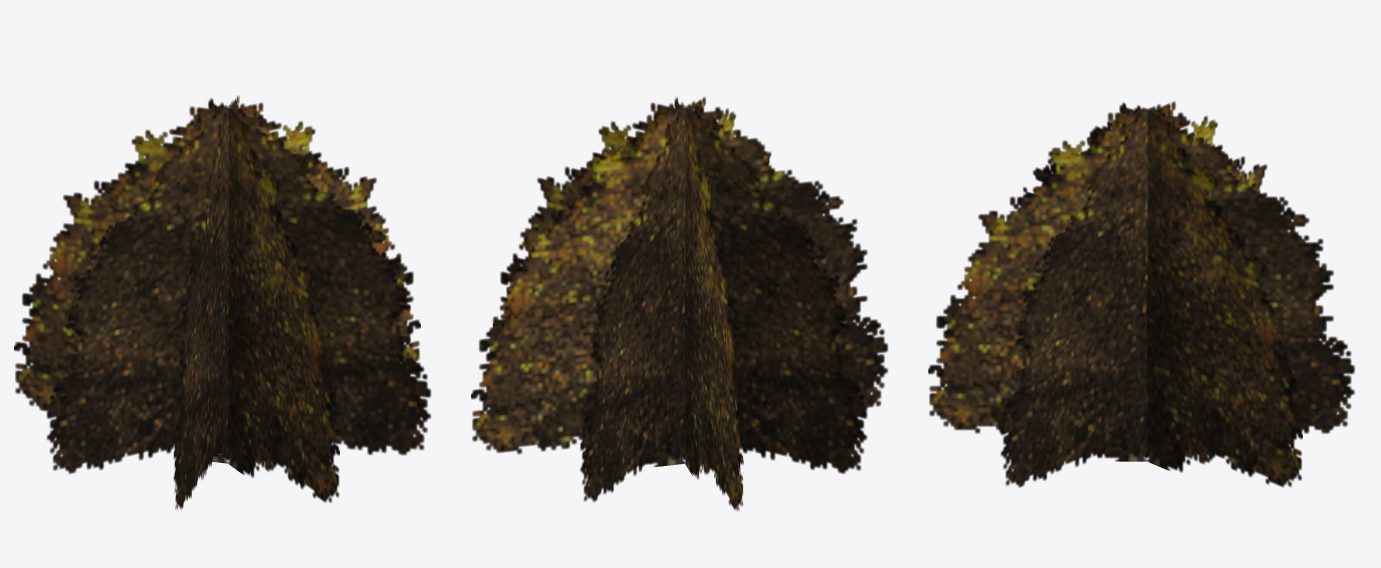
The model's file is bush_ye.glb.
The picture shows the model from 3 angles, left to right: view 1: azimuth 30°, elevation 25°; view 2: azimuth 150°, elevation 25°; view 3: azimuth 270°, elevation 25°; orthographic projection.
Visible parts, largest first — view 1: bush01; view 2: bush01; view 3: bush01.
Part boxes in pixels (x1,y1,x2,y2): bush01: (14,95,431,509); bush01: (471,97,887,510); bush01: (928,101,1354,487).
Size of the model in its own units: 8.4 by 7.5 by 8.4.
Materials: 1 (1 with a texture image).
